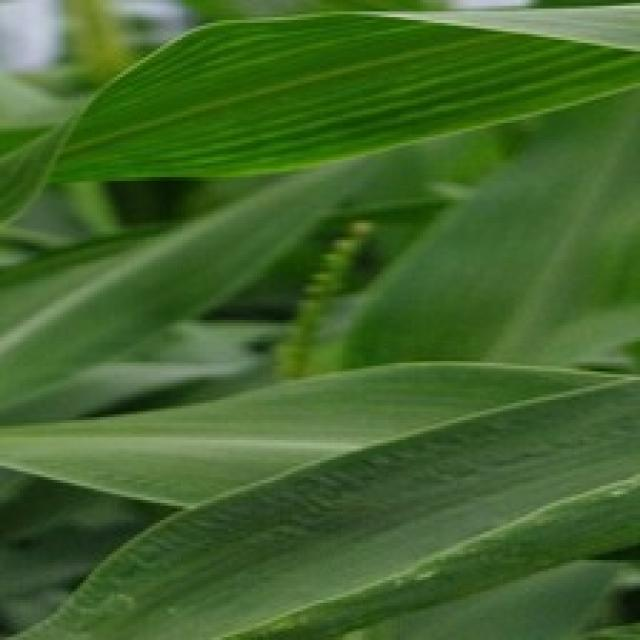Corn: (0, 0, 637, 637), (0, 354, 637, 637), (40, 0, 637, 189)
